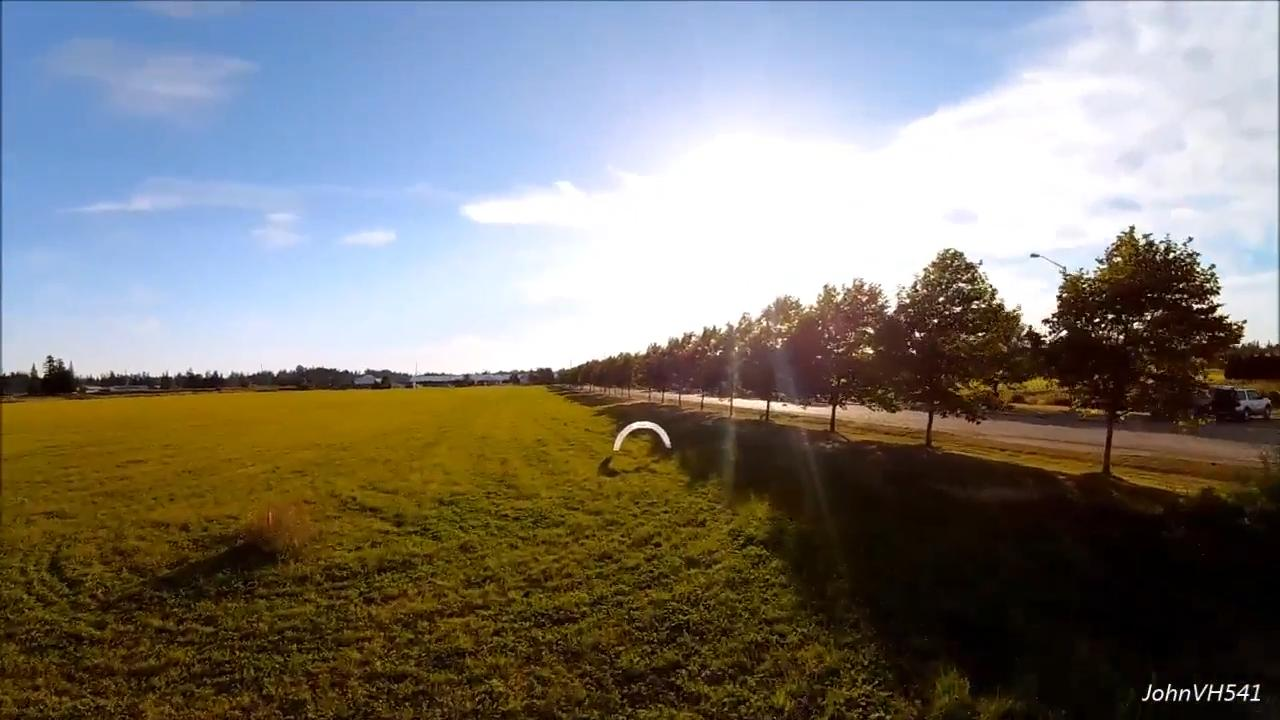gate: (612, 420, 673, 456)
